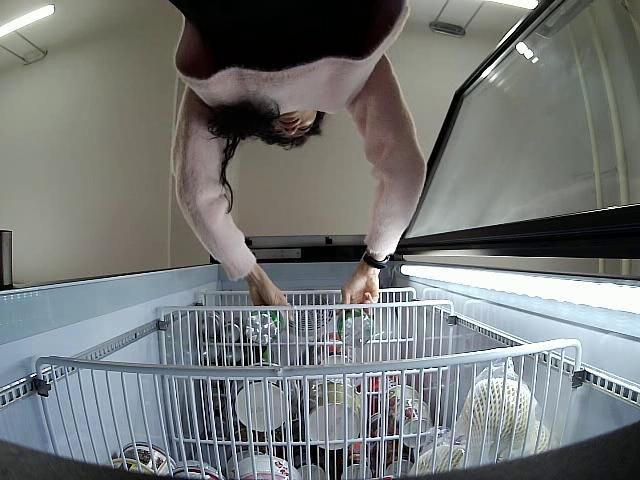00_hand: (250, 281, 295, 323), (336, 278, 378, 316)
18_trevi: (336, 309, 374, 346), (246, 311, 284, 346)
